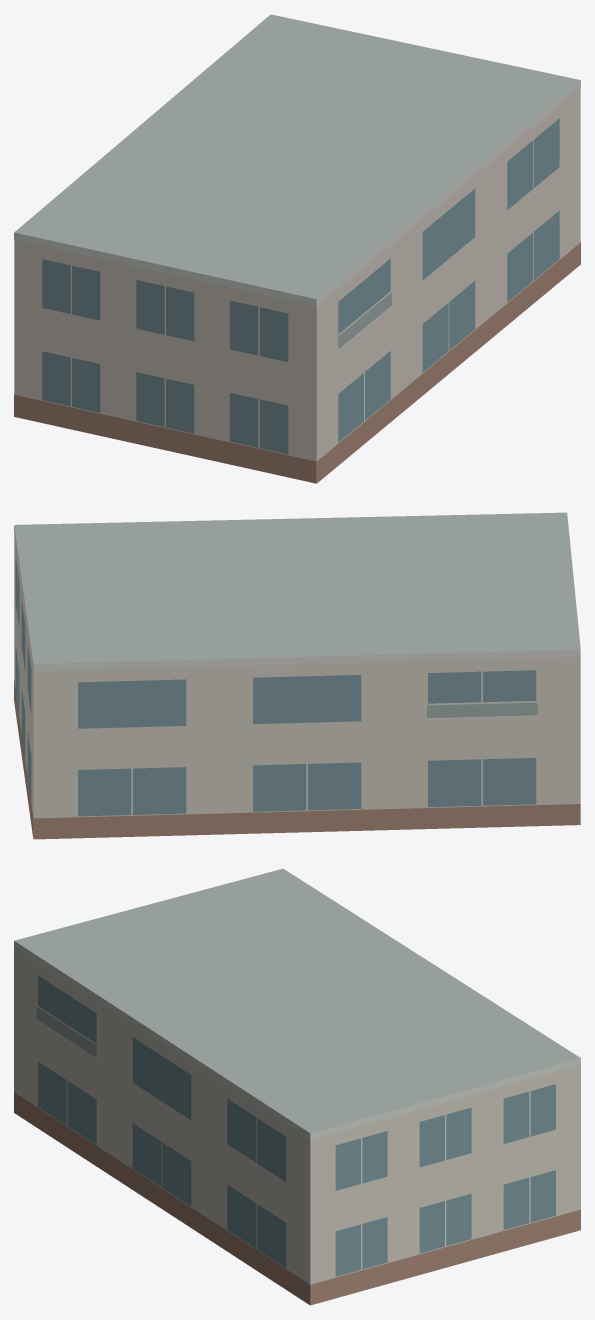
Rendered from survey-upis-32732102.glb.
3 views of the same model, one above another, from view 1: azimuth 30°, elevation 25°; view 2: azimuth 150°, elevation 25°; view 3: azimuth 270°, elevation 25° (orthographic). The views are drawn at different scales.
Parts seen in each view (by area): view 1: survey-upis-32732102.tmp; view 2: survey-upis-32732102.tmp; view 3: survey-upis-32732102.tmp.
Boxes of the visible parts, <box> form: survey-upis-32732102.tmp: <box>14,14,580,483</box>; survey-upis-32732102.tmp: <box>14,512,580,839</box>; survey-upis-32732102.tmp: <box>14,868,580,1305</box>.
Bounding box in the file's own units: 20.14 × 6.1 × 18.22.
